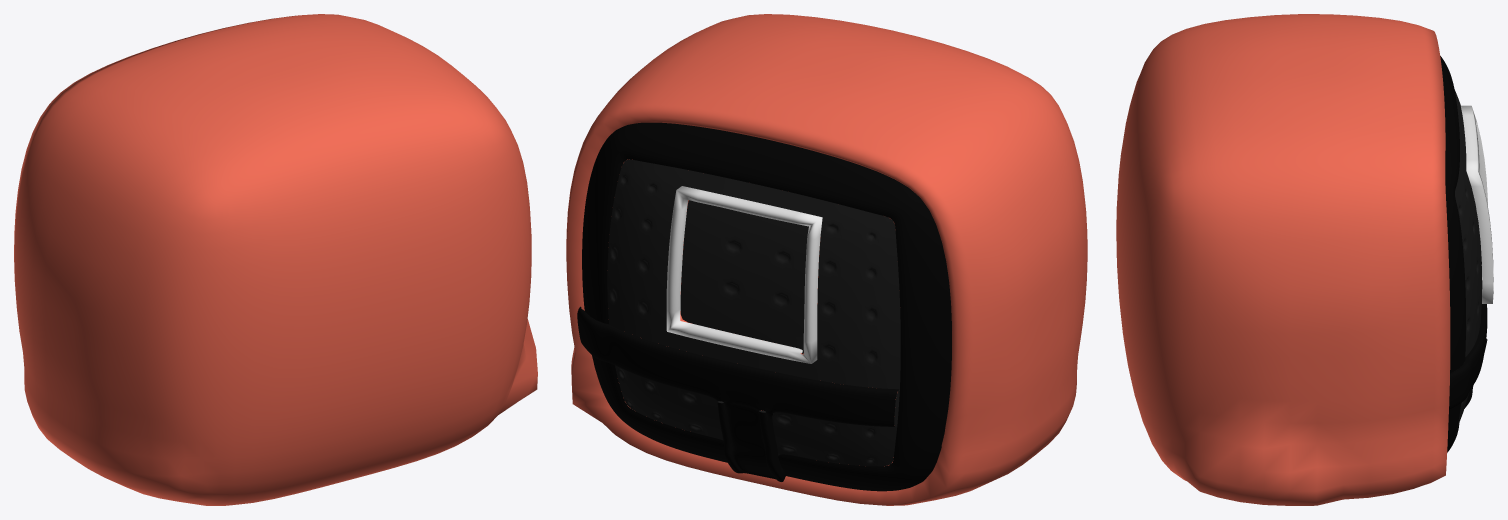
File: SquidGames.fbx
3 views of the same model, side by side, from view 1: azimuth 30°, elevation 25°; view 2: azimuth 150°, elevation 25°; view 3: azimuth 270°, elevation 25° (orthographic). The views are drawn at different scales.
Parts seen in each view (by area): view 1: Hood; view 2: Hood, Face, Border, Symbol; view 3: Hood, Border, Face, Symbol.
Boxes of the visible parts, x1,y1,x2,y2 form: Hood: [14, 14, 537, 505]; Hood: [566, 14, 1087, 505]; Face: [593, 159, 900, 466]; Border: [577, 122, 951, 491]; Symbol: [666, 186, 822, 363]; Hood: [1116, 14, 1450, 505]; Border: [1440, 56, 1487, 452]; Face: [1454, 90, 1487, 428]; Symbol: [1461, 105, 1493, 303].
Bounding box in the file's own units: 46.73 × 38.35 × 34.74.
